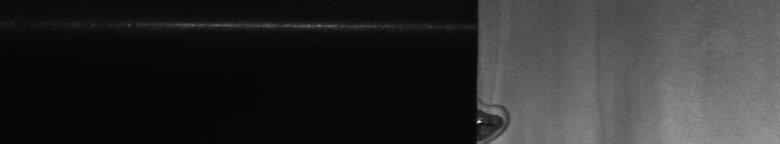hb: (488, 100, 515, 136)
